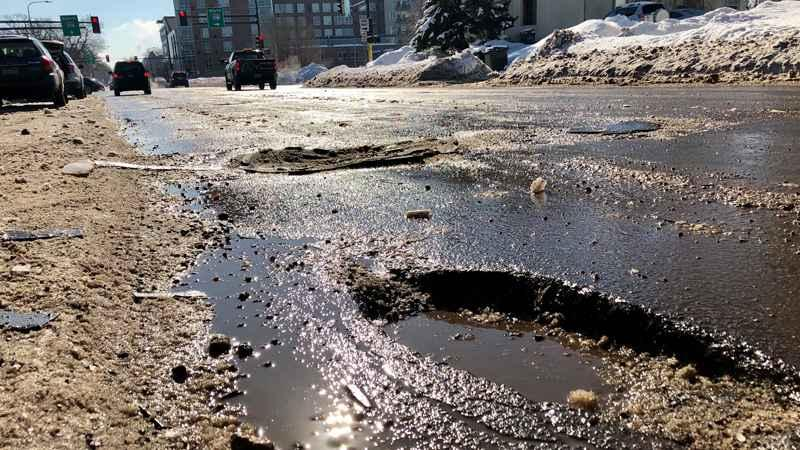Pothole: (306, 260, 793, 449)
